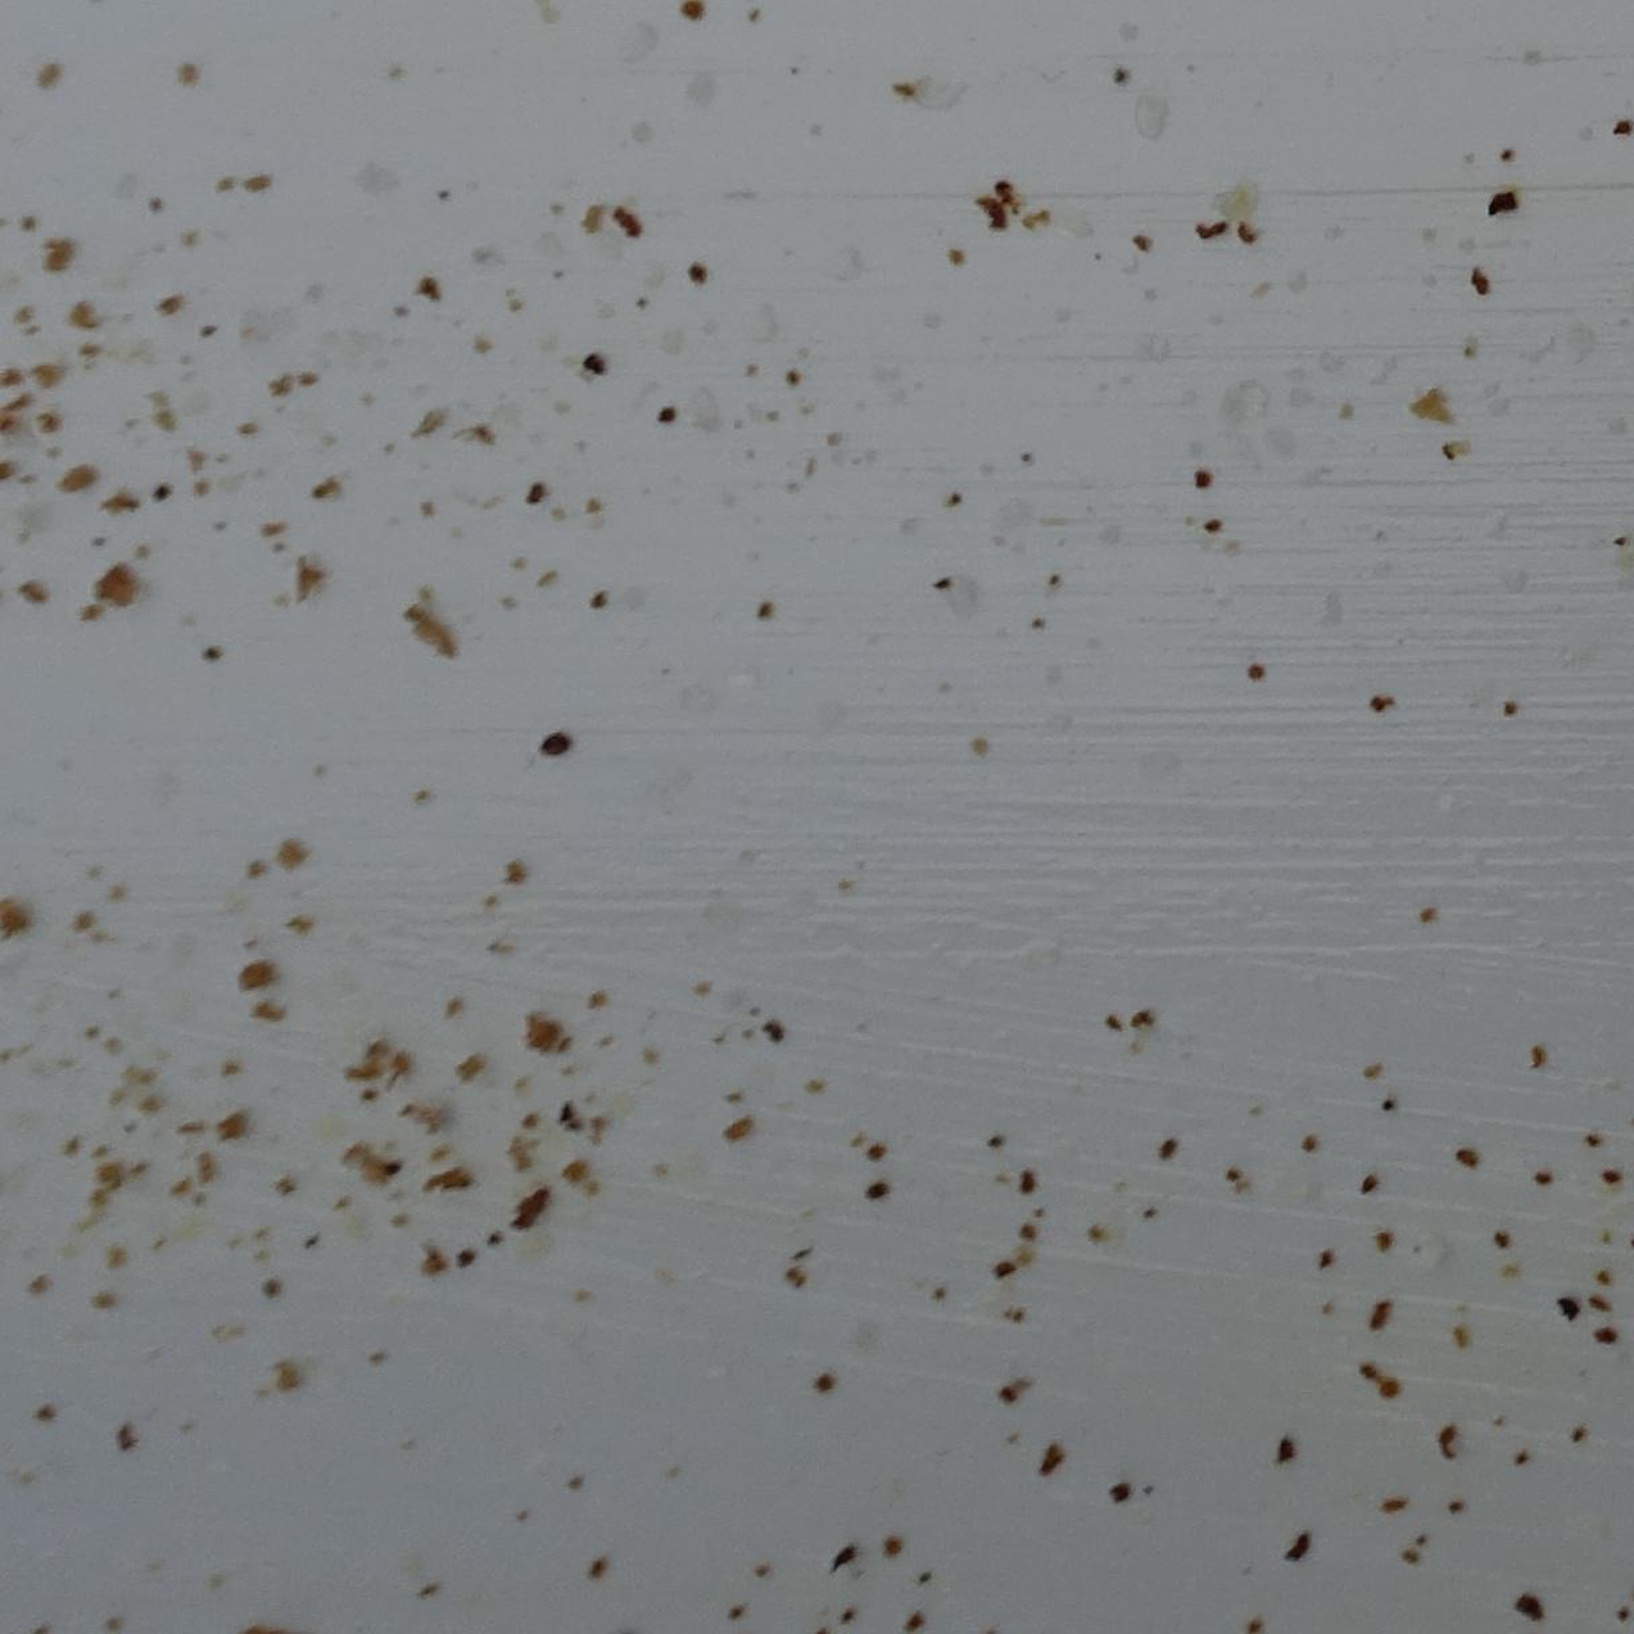Varroa: (545, 732, 567, 757)
